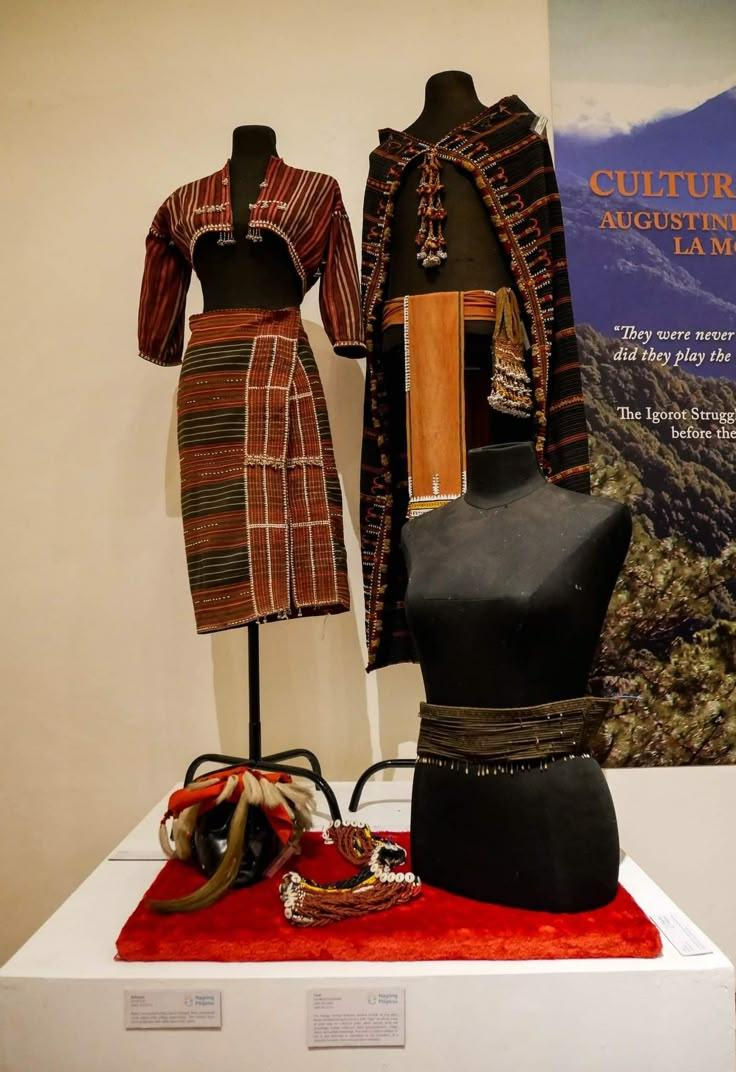malong: (358, 78, 618, 672), (90, 172, 383, 632)
